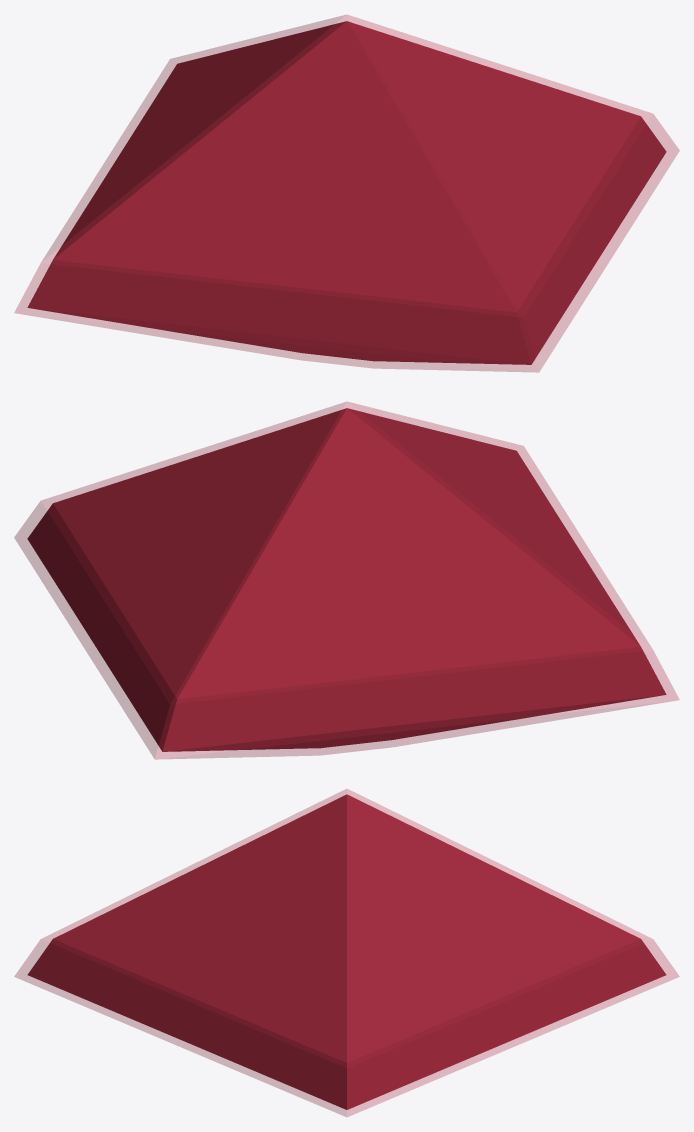
File: item_gem4.glb
3 renders of one model, top to bottom at view 1: azimuth 30°, elevation 25°; view 2: azimuth 150°, elevation 25°; view 3: azimuth 270°, elevation 25°, orthographic. The views are drawn at different scales.
Visible parts, largest first — view 1: jewellery_gem4_glass, jewellery_gem4; view 2: jewellery_gem4_glass, jewellery_gem4; view 3: jewellery_gem4_glass, jewellery_gem4.
Boxes of the visible parts, x1,y1,x2,y2 form: jewellery_gem4_glass: (14, 15, 679, 372); jewellery_gem4: (27, 21, 666, 364); jewellery_gem4_glass: (14, 402, 679, 759); jewellery_gem4: (27, 408, 666, 751); jewellery_gem4_glass: (14, 789, 679, 1116); jewellery_gem4: (27, 794, 666, 1109).
Bounding box in the file's own units: 1 × 0.48 × 1.
